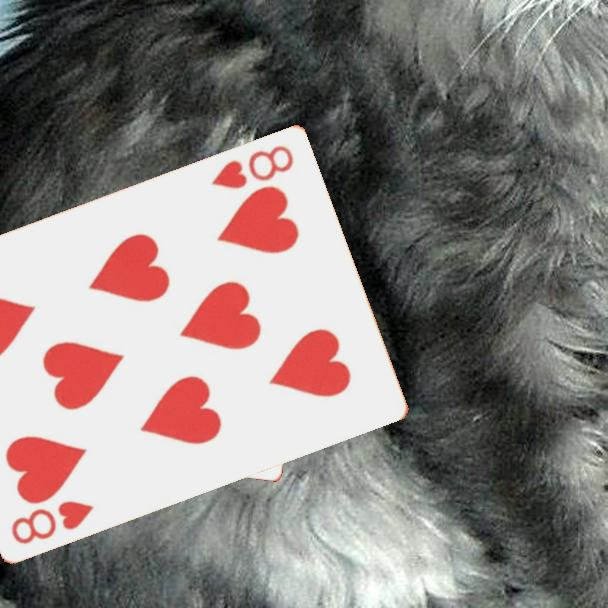h08: (8, 496, 97, 547), (208, 141, 297, 191)
